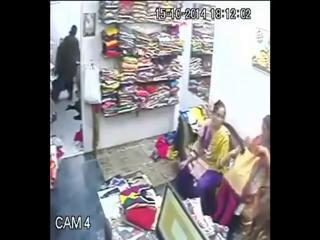Normal: (174, 100, 233, 206), (54, 25, 80, 102)
